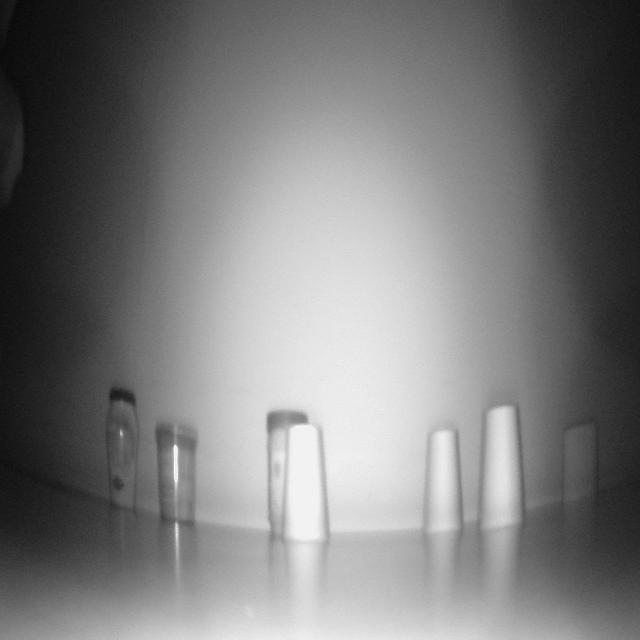targets: (263, 407, 331, 538), (479, 407, 527, 532), (418, 425, 466, 532), (153, 423, 200, 529), (104, 388, 139, 518), (562, 425, 598, 500)
